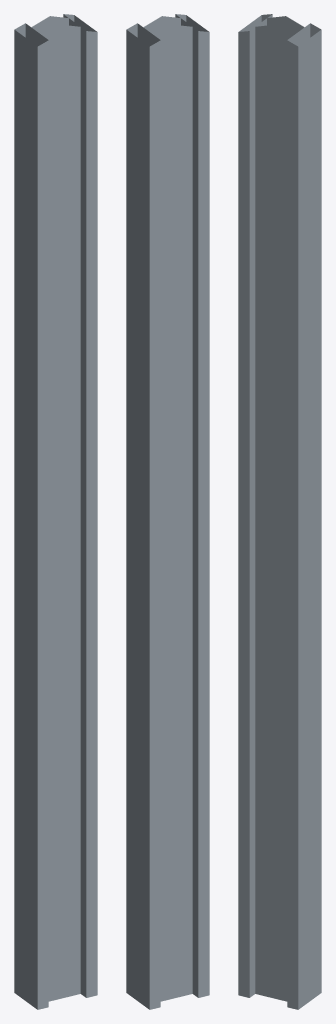
File: SM06_Building_Structure_Column_Gable_Top_04.fbx
3 renders of one model, left to right at view 1: azimuth 30°, elevation 25°; view 2: azimuth 210°, elevation 25°; view 3: azimuth 330°, elevation 25°, orthographic.
Visible parts, largest first — view 1: SM06_Building_Structure_Column_Gable_Top_04; view 2: SM06_Building_Structure_Column_Gable_Top_04; view 3: SM06_Building_Structure_Column_Gable_Top_04.
Part boxes in pixels (x1,y1,x2,y2): SM06_Building_Structure_Column_Gable_Top_04: [14, 14, 97, 1009]; SM06_Building_Structure_Column_Gable_Top_04: [126, 14, 209, 1009]; SM06_Building_Structure_Column_Gable_Top_04: [238, 14, 321, 1009].
Size of the model in its own units: 0.59 by 9.18 by 0.3976.
